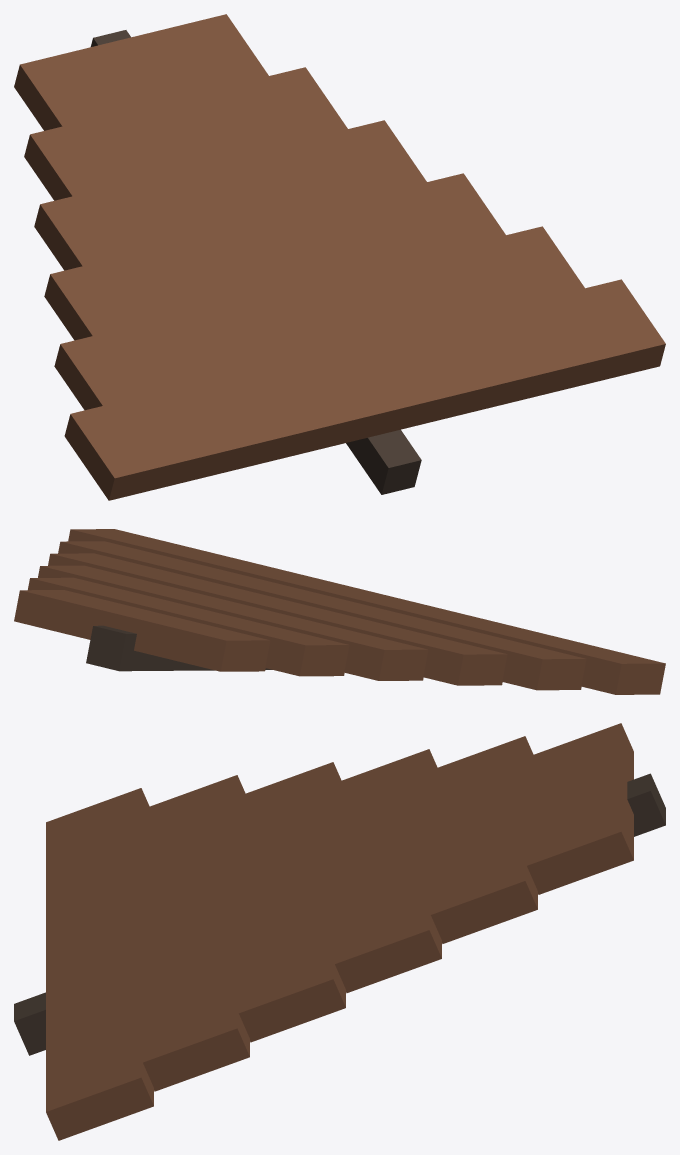
The model's file is wood_roof_corner.glb.
3 renders of one model, top to bottom at view 1: azimuth 30°, elevation 25°; view 2: azimuth 150°, elevation 25°; view 3: azimuth 270°, elevation 25°, orthographic. The views are drawn at different scales.
Visible parts, largest first — view 1: wood_roof_corner; view 2: wood_roof_corner; view 3: wood_roof_corner.
Boxes of the visible parts, left/top/right/bottom form: wood_roof_corner: left=14, top=14, right=665, bottom=500; wood_roof_corner: left=14, top=529, right=665, bottom=694; wood_roof_corner: left=14, top=723, right=665, bottom=1140.
Size of the model in its own units: 2 by 0.8687 by 1.9.
